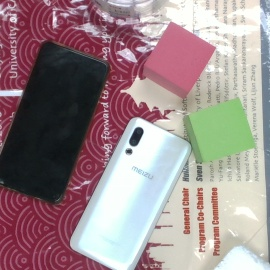phone: (1, 39, 108, 204)
